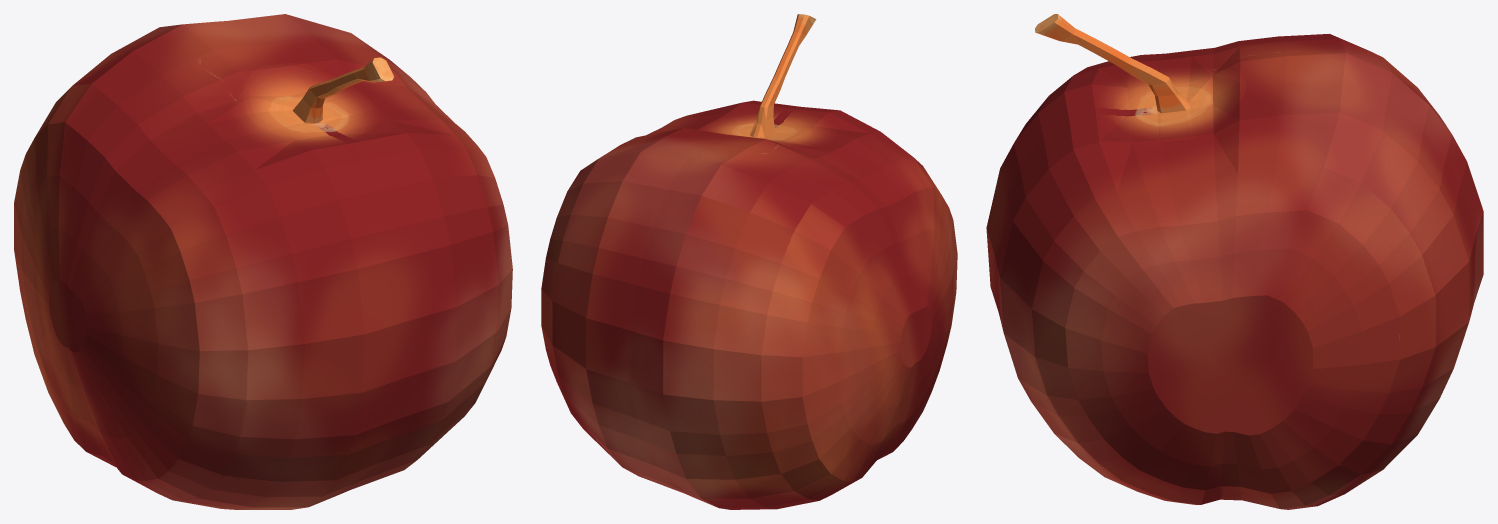
Rendered from Apple.dae.
3 views of the same model, side by side, from view 1: azimuth 30°, elevation 25°; view 2: azimuth 150°, elevation 25°; view 3: azimuth 270°, elevation 25° (orthographic). The views are drawn at different scales.
Parts seen in each view (by area): view 1: Cube; view 2: Cube; view 3: Cube.
Part boxes in pixels (<box>): Cube: <box>14,14,512,509</box>; Cube: <box>541,14,957,509</box>; Cube: <box>986,14,1483,509</box>.
Bounding box in the file's own units: 1.92 × 2.11 × 2.26.
Materials: 1 (1 with a texture image).
